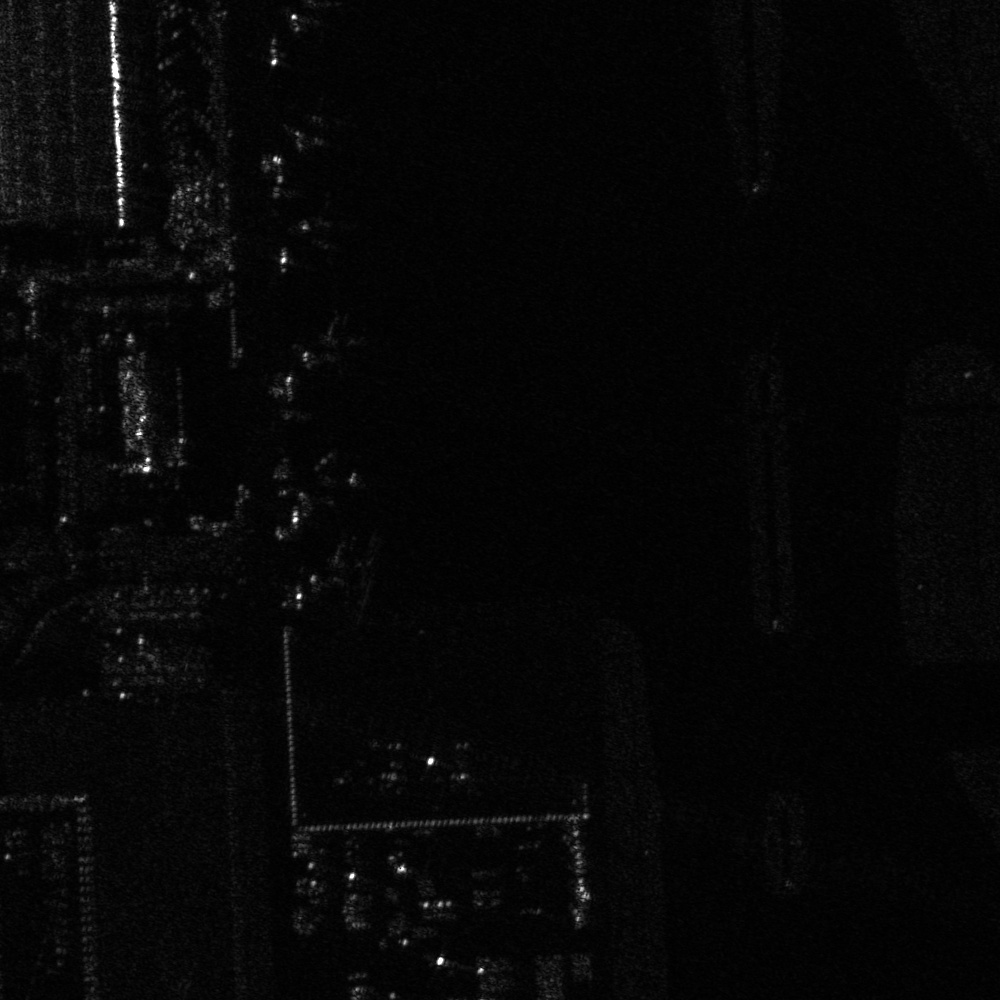A220: (274, 447, 366, 510)
A320/321: (283, 310, 372, 381)
other: (270, 93, 362, 158), (282, 196, 369, 260)
